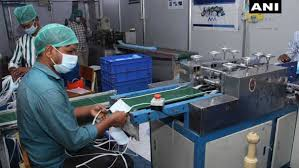mask: (40, 26, 79, 77), (15, 6, 38, 40)
